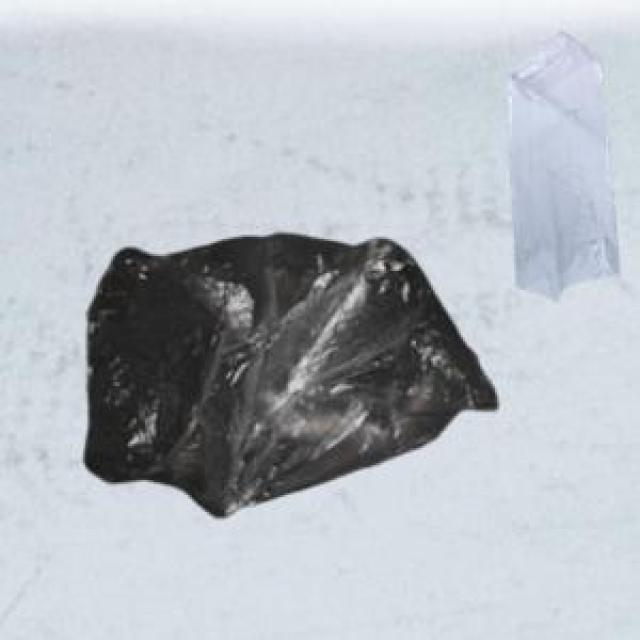plastic: (55, 15, 618, 546)
